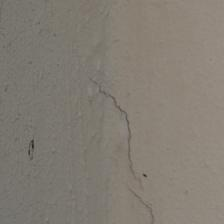Crack: (26, 23, 120, 134), (0, 11, 111, 49)
